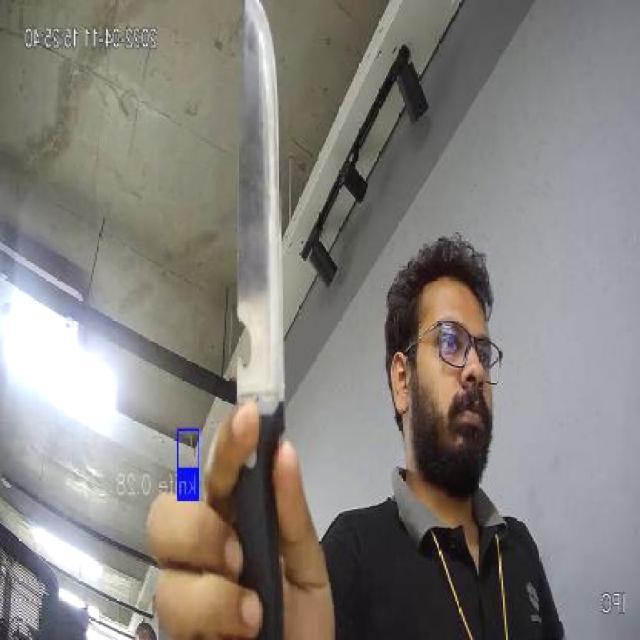knife: (214, 0, 303, 502)
